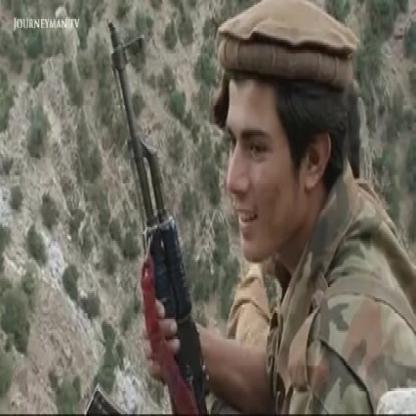Gun: (93, 4, 208, 408)
